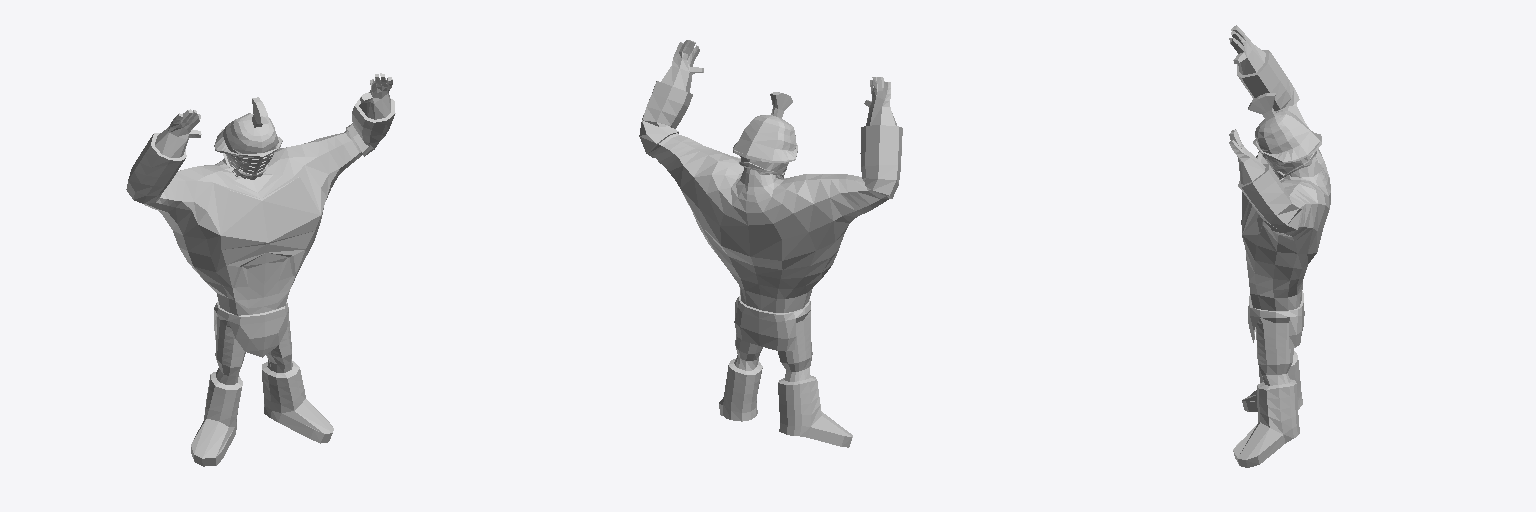
Rendered from GladiatorCelebracion_000566.obj.
3 renders of one model, left to right at view 1: azimuth 30°, elevation 25°; view 2: azimuth 150°, elevation 25°; view 3: azimuth 270°, elevation 25°, orthographic.
Parts seen in each view (by area): view 1: Gadiador_Gladiador_H; view 2: Gadiador_Gladiador_H; view 3: Gadiador_Gladiador_H.
Part boxes in pixels (x1,y1,x2,y2): Gadiador_Gladiador_H: (126,73,395,466); Gadiador_Gladiador_H: (639,40,902,447); Gadiador_Gladiador_H: (1229,25,1330,467).
Bounding box in the file's own units: 5.88 × 8.08 × 2.03.